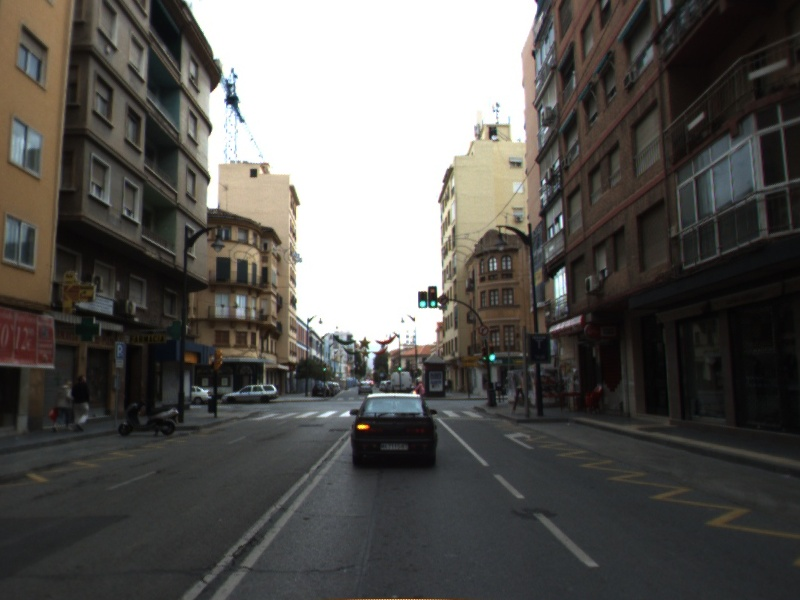RIGHT: (502, 429, 537, 451)
